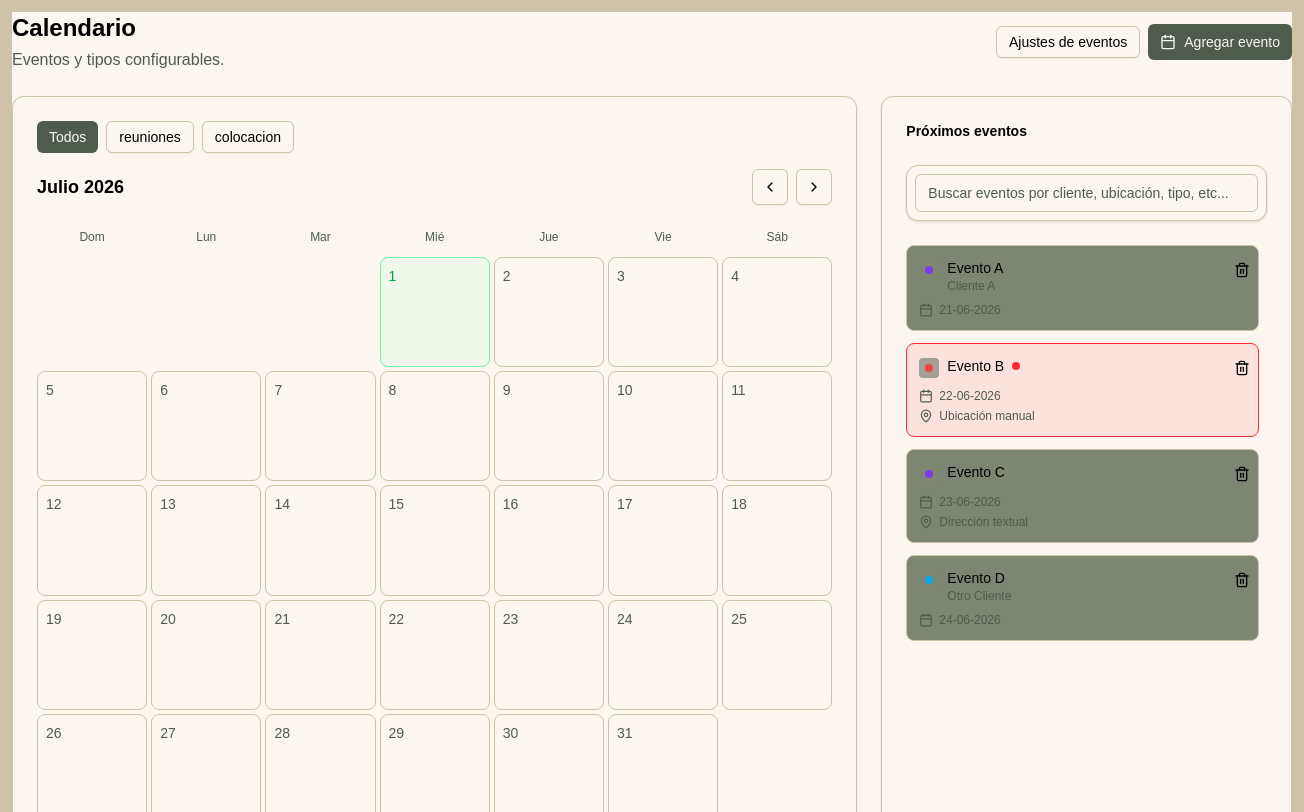
it: CalendarView › search › shows all events when search is cleared
Type "Palermo" into the field with placeholder "Buscar eventos por cliente, ubicación, tipo, etc..." at (1087, 193), box [915, 174, 1258, 212]
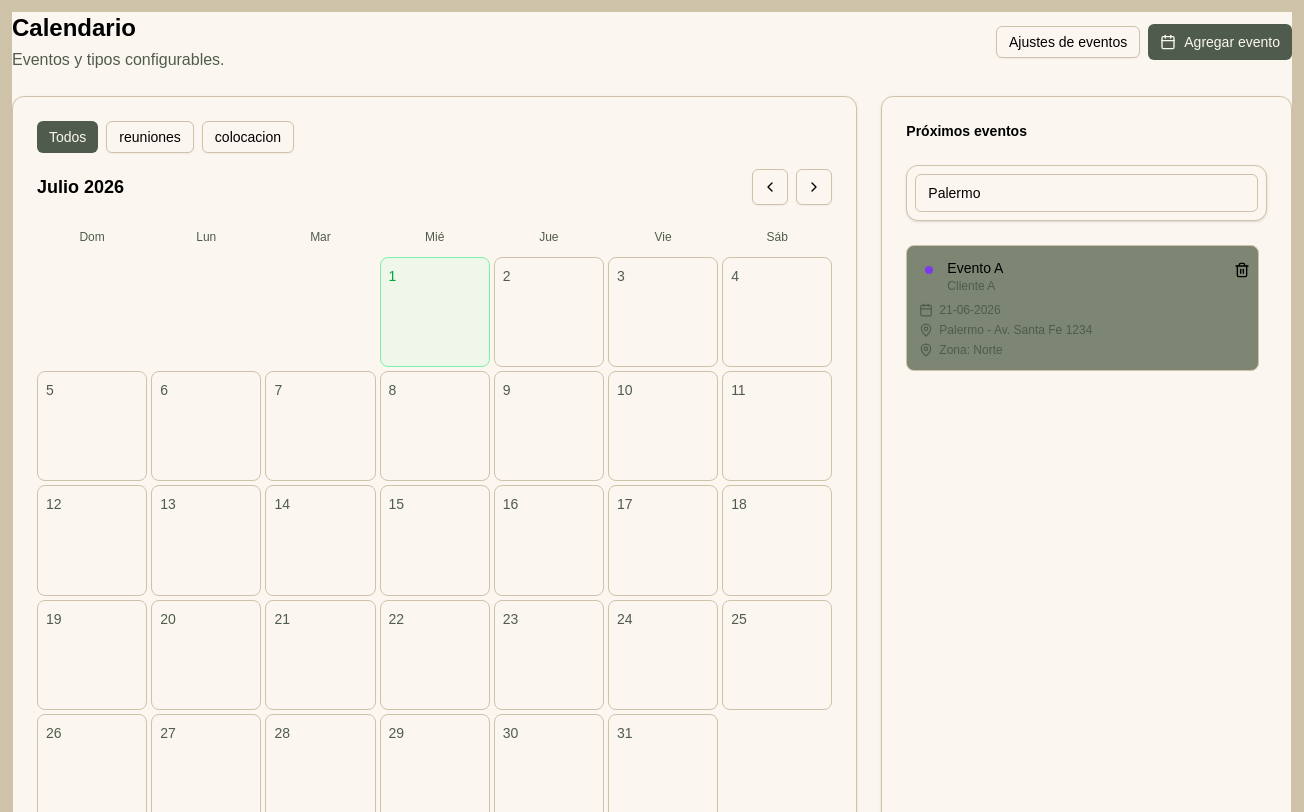
expect the heading "Evento A" is shown: met, box [947, 258, 1003, 278]
expect the heading "Evento B" is gone: met
Clear the field with placeholder "Buscar eventos por cliente, ubicación, tipo, etc..." at (1087, 193), box [915, 174, 1258, 212]
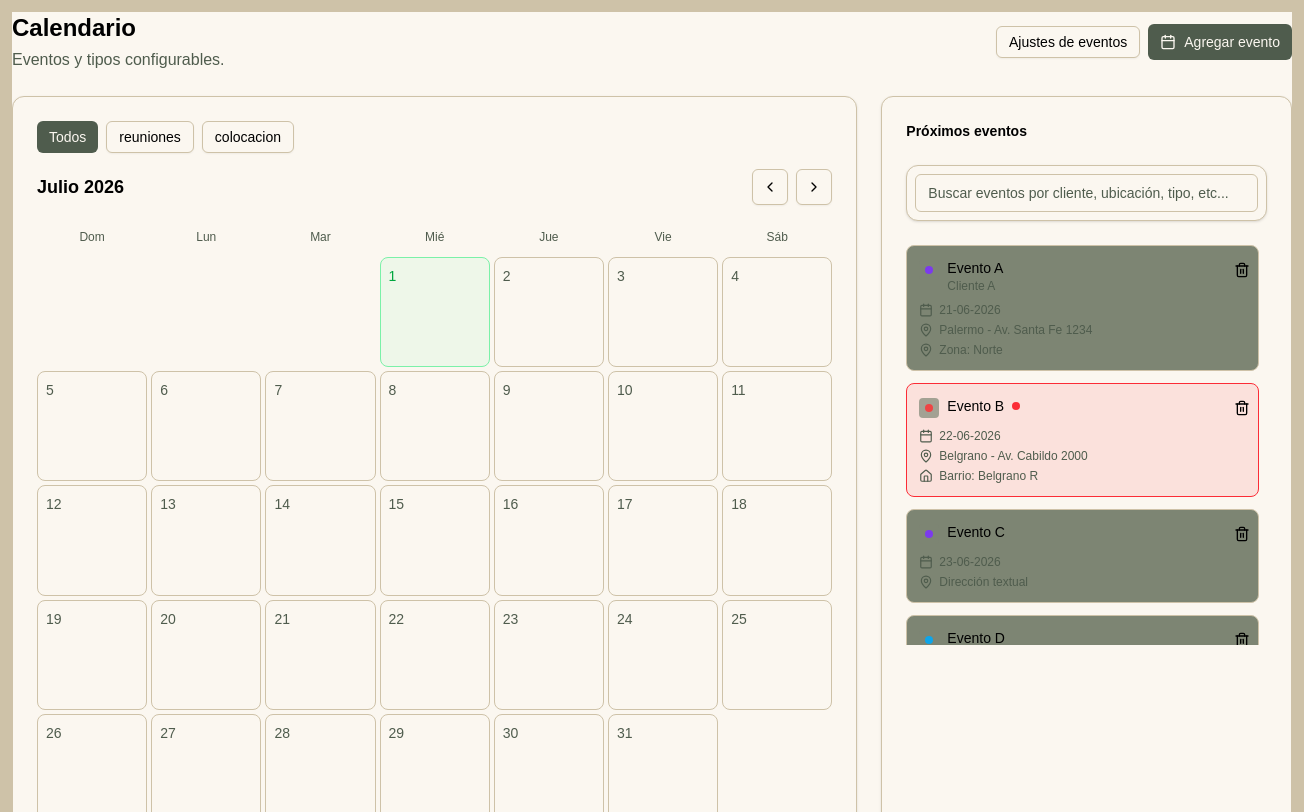
expect the heading "Evento B" is shown: met, box [947, 396, 1004, 416]
expect the heading "Evento C" is shown: met, box [947, 522, 1005, 542]
expect the heading "Evento D" is shown: met, box [947, 628, 1005, 645]
